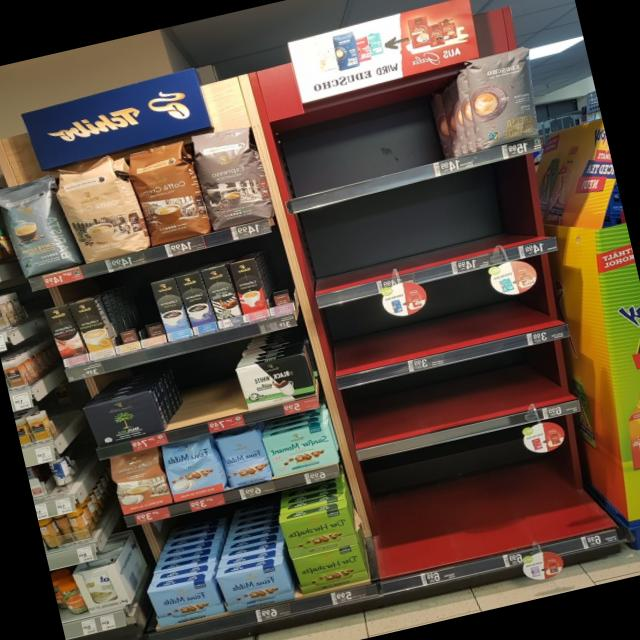BM Gemahlen: (80, 386, 165, 450)
BW Gemahlen: (232, 348, 318, 411)
Barista CC: (0, 171, 73, 280)
Barista Espresso: (188, 120, 275, 232)
CC Mild: (51, 150, 146, 267)
CC Vollmundig: (106, 446, 172, 516)
CC Vollmundig 36 Pads: (126, 136, 210, 248)
Empty Shelf: (154, 365, 243, 429), (256, 248, 294, 308), (126, 283, 164, 339), (101, 290, 139, 346)
FM 36 Pads: (160, 434, 227, 504)
FM Bohne: (216, 426, 272, 488)
FM Gemahlen: (144, 574, 223, 630), (216, 560, 291, 615)
Herzhatfe Mundig: (278, 503, 358, 560), (290, 542, 369, 598)
SM Gemahlen: (261, 420, 337, 480)
Simo CC Colombia: (43, 303, 90, 367)
Simo Decaff: (68, 298, 116, 360)
Simo Es Brazil: (228, 256, 270, 324)
Simo Es Elegant: (201, 264, 243, 329)
Simo Es Kraft: (174, 271, 218, 335)
Simo Es Vanilla: (150, 277, 193, 342)
